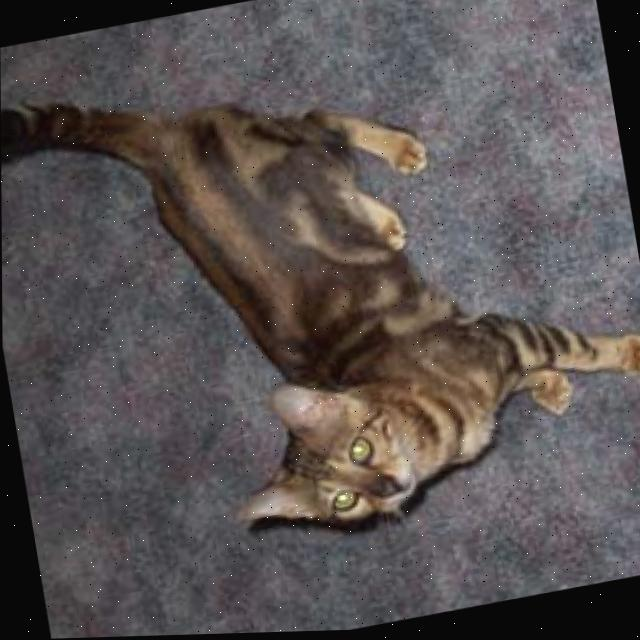Bengal: (0, 0, 640, 587)
